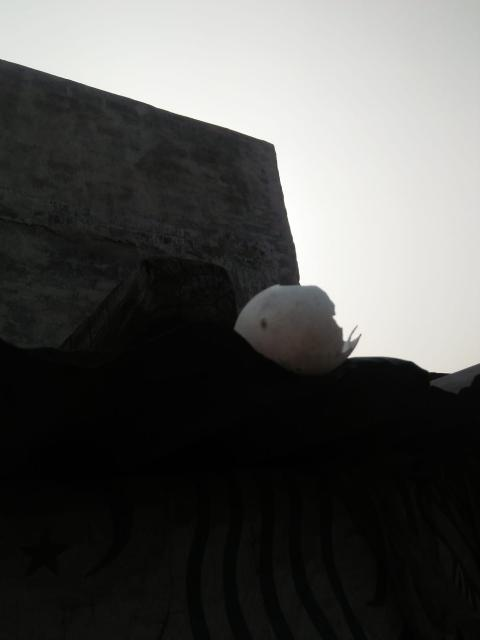Roto: (233, 283, 364, 371)
